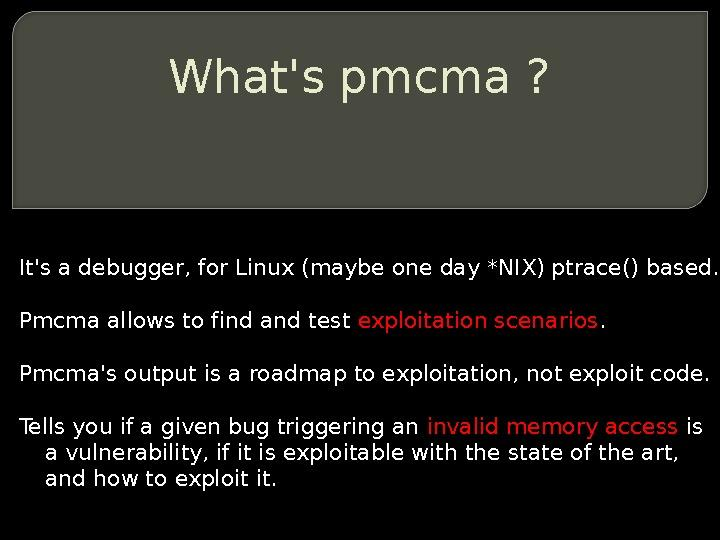paragraph: (12, 238, 720, 505)
title: (163, 41, 554, 125)
